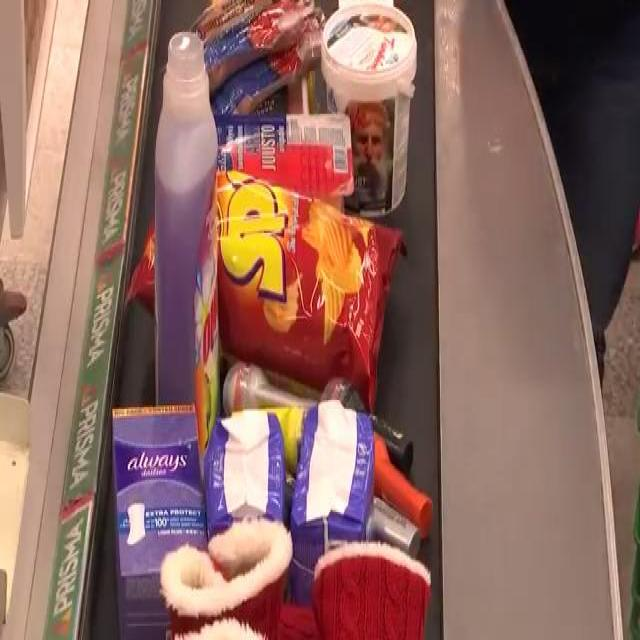food-box: (228, 177, 384, 403), (212, 108, 356, 208), (191, 3, 332, 102)
utility-box: (148, 6, 227, 460), (158, 543, 433, 636), (333, 8, 433, 244), (224, 356, 420, 472), (127, 400, 204, 640), (214, 411, 288, 551), (374, 416, 436, 576)
